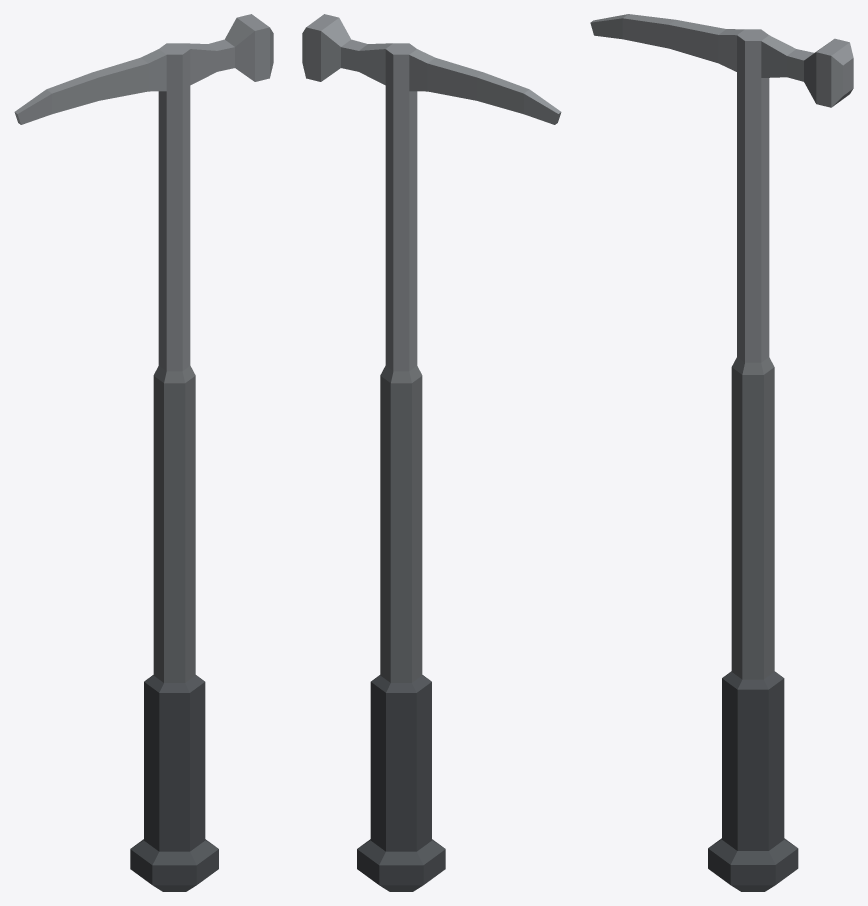
The model's file is Poleaxe.002.fbx.
The picture shows the model from 3 angles, left to right: view 1: azimuth 30°, elevation 25°; view 2: azimuth 150°, elevation 25°; view 3: azimuth 330°, elevation 25°; orthographic projection.
Visible parts, largest first — view 1: Poleaxe.002; view 2: Poleaxe.002; view 3: Poleaxe.002.
Boxes of the visible parts, box(x1,y1,x2,y2) form: Poleaxe.002: box(14, 14, 273, 891); Poleaxe.002: box(302, 14, 561, 891); Poleaxe.002: box(590, 14, 853, 891).
Size of the model in its own units: 19.99 by 63.72 by 6.09.
